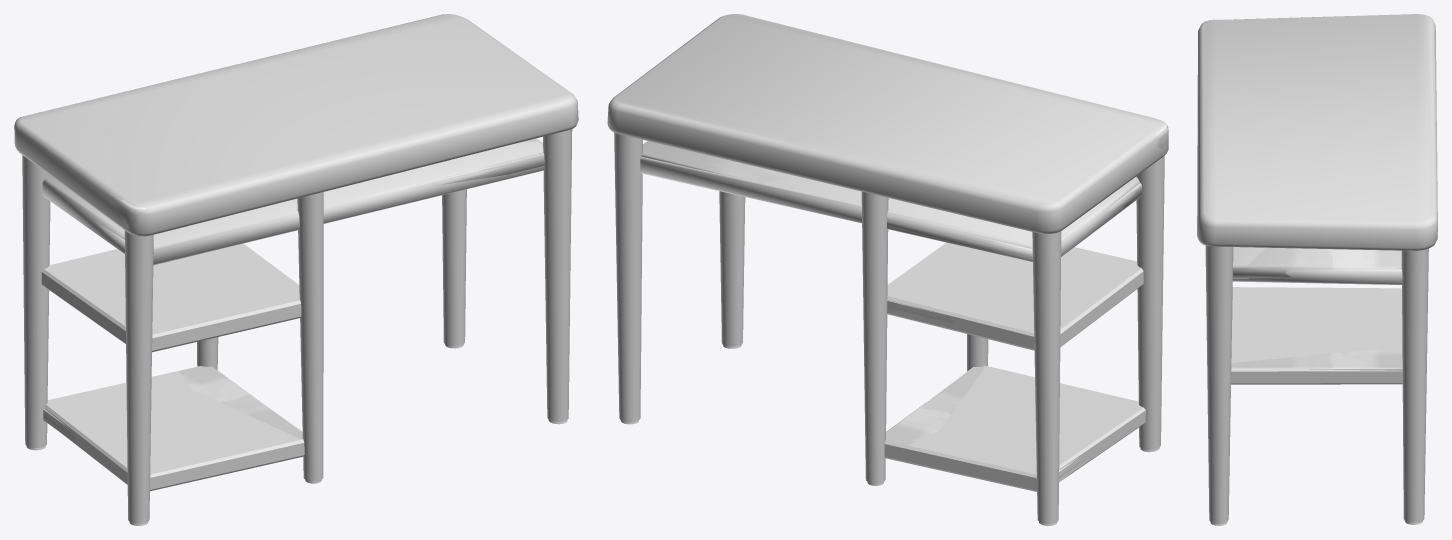
Rendered from elementary_desk.fbx.
3 views of the same model, side by side, from view 1: azimuth 30°, elevation 25°; view 2: azimuth 150°, elevation 25°; view 3: azimuth 270°, elevation 25° (orthographic). The views are drawn at different scales.
Parts seen in each view (by area): view 1: Cube.001, Cylinder, Cube.004, Cube.003, Cube.002, Cylinder.001; view 2: Cube.001, Cylinder, Cube.004, Cube.003, Cube.002, Cylinder.001; view 3: Cube.001, Cube.004, Cylinder, Cube.002.
Boxes of the visible parts, <box> form: Cube.001: <box>14,14,578,236</box>; Cylinder: <box>22,129,572,525</box>; Cube.004: <box>43,366,304,491</box>; Cube.003: <box>41,243,301,352</box>; Cube.002: <box>42,138,544,265</box>; Cylinder.001: <box>197,192,323,483</box>; Cube.001: <box>607,14,1168,234</box>; Cylinder: <box>614,132,1164,525</box>; Cube.004: <box>884,365,1145,491</box>; Cube.003: <box>887,242,1143,350</box>; Cube.002: <box>640,141,1141,261</box>; Cylinder.001: <box>861,191,988,485</box>; Cube.001: <box>1197,14,1437,250</box>; Cube.004: <box>1231,287,1402,384</box>; Cylinder: <box>1205,245,1428,525</box>; Cube.002: <box>1232,247,1402,284</box>.
Size of the model in its own units: 0.9381 by 0.6463 by 0.4553.
